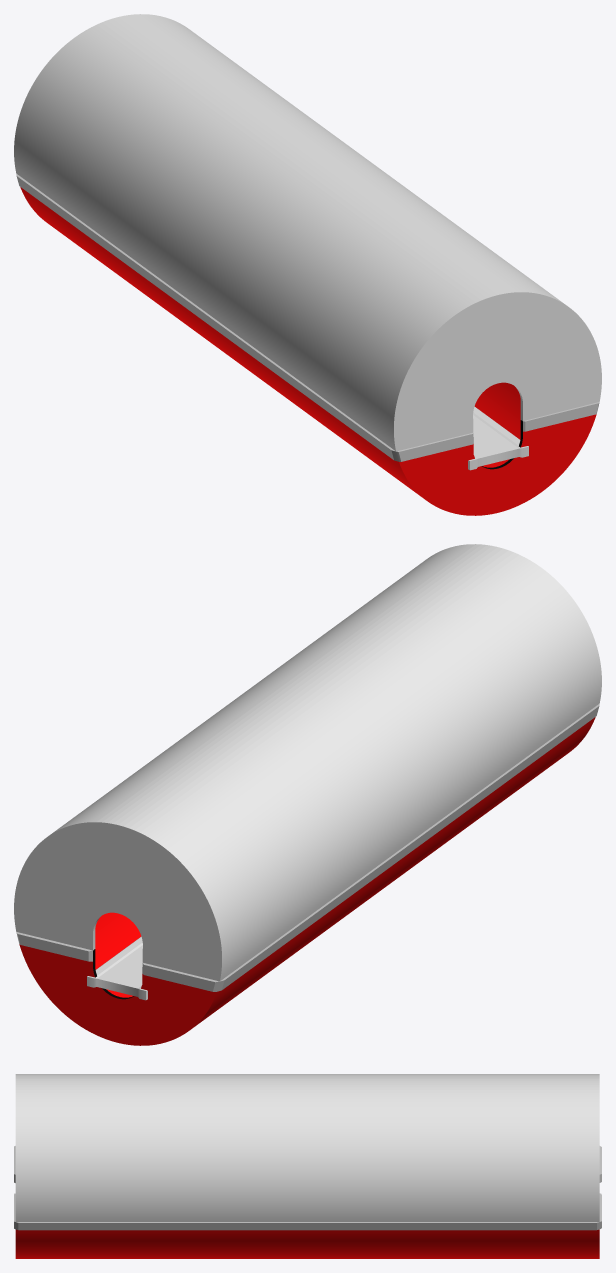
Rendered from corridor 2.0.fbx.
3 views of the same model, one above another, from view 1: azimuth 30°, elevation 25°; view 2: azimuth 150°, elevation 25°; view 3: azimuth 270°, elevation 25° (orthographic). The views are drawn at different scales.
Parts seen in each view (by area): view 1: Cube.002, Cube, Cube.001; view 2: Cube.002, Cube, Cube.001; view 3: Cube.002, Cube.
Boxes of the visible parts, x1=… form: Cube.002: x1=14, y1=14, x2=601, y2=451; Cube: x1=16, y1=174, x2=599, y2=515; Cube.001: x1=468, y1=406, x2=528, y2=470; Cube.002: x1=14, y1=544, x2=601, y2=981; Cube: x1=16, y1=704, x2=599, y2=1045; Cube.001: x1=87, y1=936, x2=147, y2=1000; Cube.002: x1=15, y1=1074, x2=599, y2=1221; Cube: x1=14, y1=1146, x2=601, y2=1258.
Size of the model in its own units: 751 by 751 by 2389.
